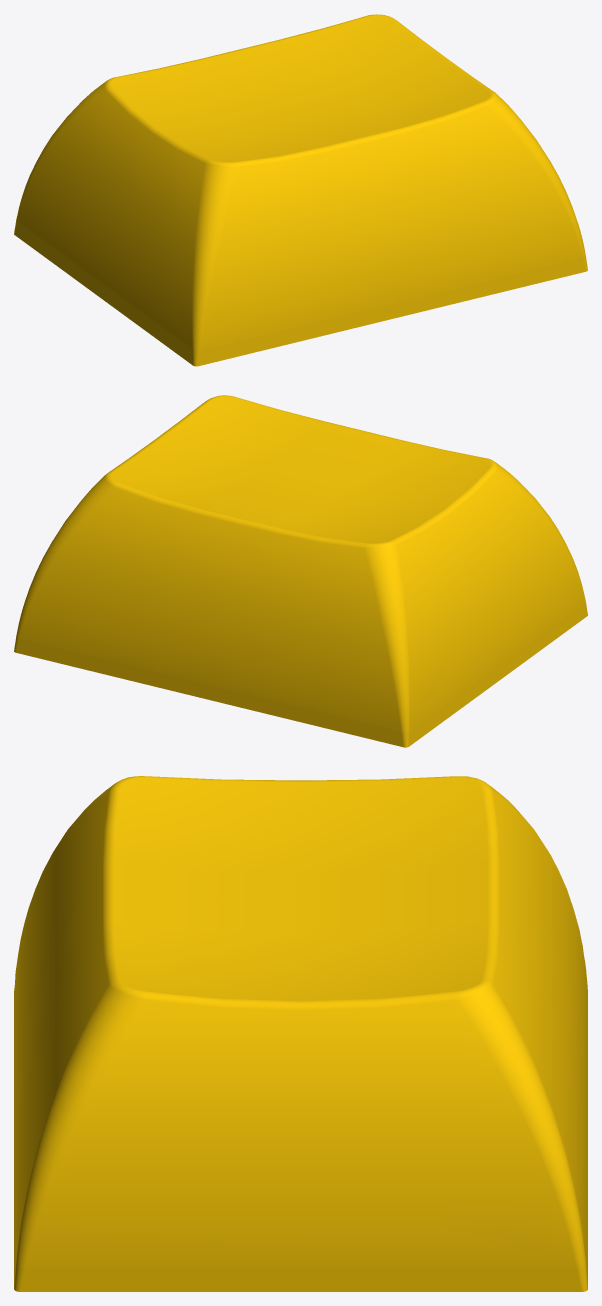
3 views of the same model, one above another, from view 1: azimuth 30°, elevation 25°; view 2: azimuth 150°, elevation 25°; view 3: azimuth 270°, elevation 25° (orthographic). The views are drawn at different scales.
Parts seen in each view (by area): view 1: Body79; view 2: Body79; view 3: Body79.
Part boxes in pixels (box(x1,y1,x2,y2)): Body79: box(14, 14, 587, 366); Body79: box(14, 395, 587, 747); Body79: box(14, 776, 587, 1291).
Bounding box in the file's own units: 22.86 × 9.06 × 18.31.
